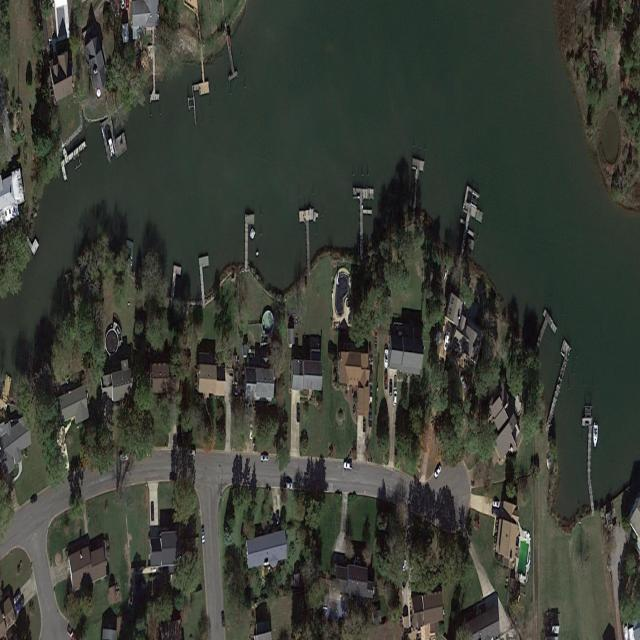ship: (443, 329, 451, 354), (108, 137, 116, 160), (593, 420, 599, 449), (384, 347, 389, 369)
small-vehicle: (12, 590, 21, 606), (15, 598, 24, 614), (434, 464, 442, 480), (150, 500, 155, 525), (368, 405, 373, 427), (30, 495, 39, 507), (120, 452, 130, 462), (281, 481, 294, 488), (343, 461, 353, 470), (259, 454, 270, 462), (249, 424, 254, 440), (188, 448, 196, 458), (389, 378, 393, 397), (393, 391, 398, 406), (221, 613, 226, 628), (492, 500, 500, 509), (384, 372, 388, 390), (170, 474, 179, 482), (296, 406, 300, 423), (201, 528, 205, 544), (393, 375, 397, 389), (276, 512, 280, 525)
